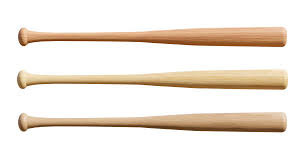baseball bat: (18, 26, 287, 50), (17, 69, 289, 90), (18, 113, 288, 132)
